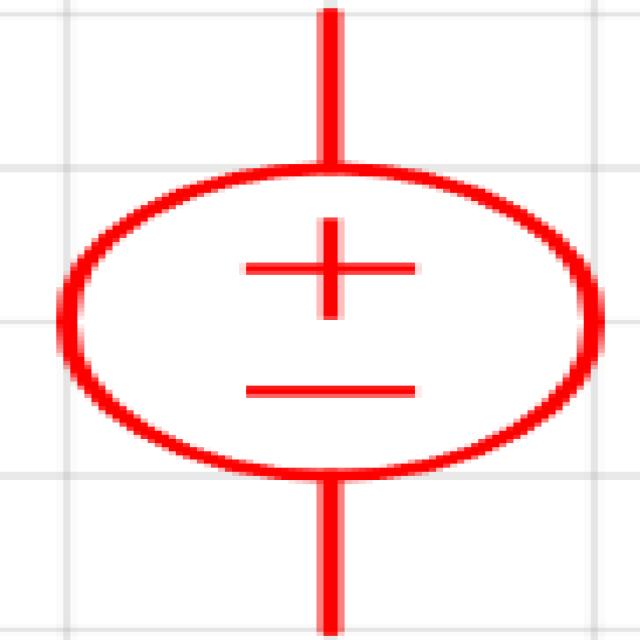vdc: (41, 5, 614, 638)
